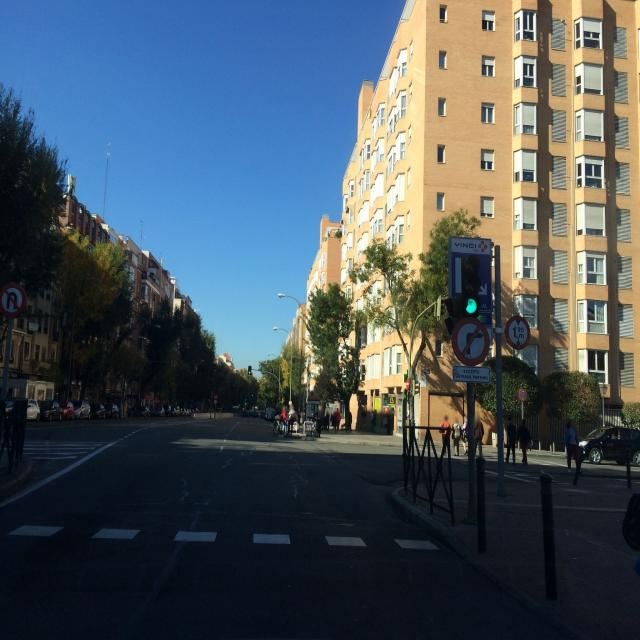bike: (273, 415, 288, 437)
car: (578, 426, 640, 465), (38, 398, 62, 422), (70, 400, 92, 420), (25, 398, 41, 422), (129, 404, 151, 418), (60, 400, 75, 420), (90, 402, 106, 420), (104, 402, 120, 418), (152, 403, 166, 418), (242, 410, 249, 417), (252, 411, 259, 418)
